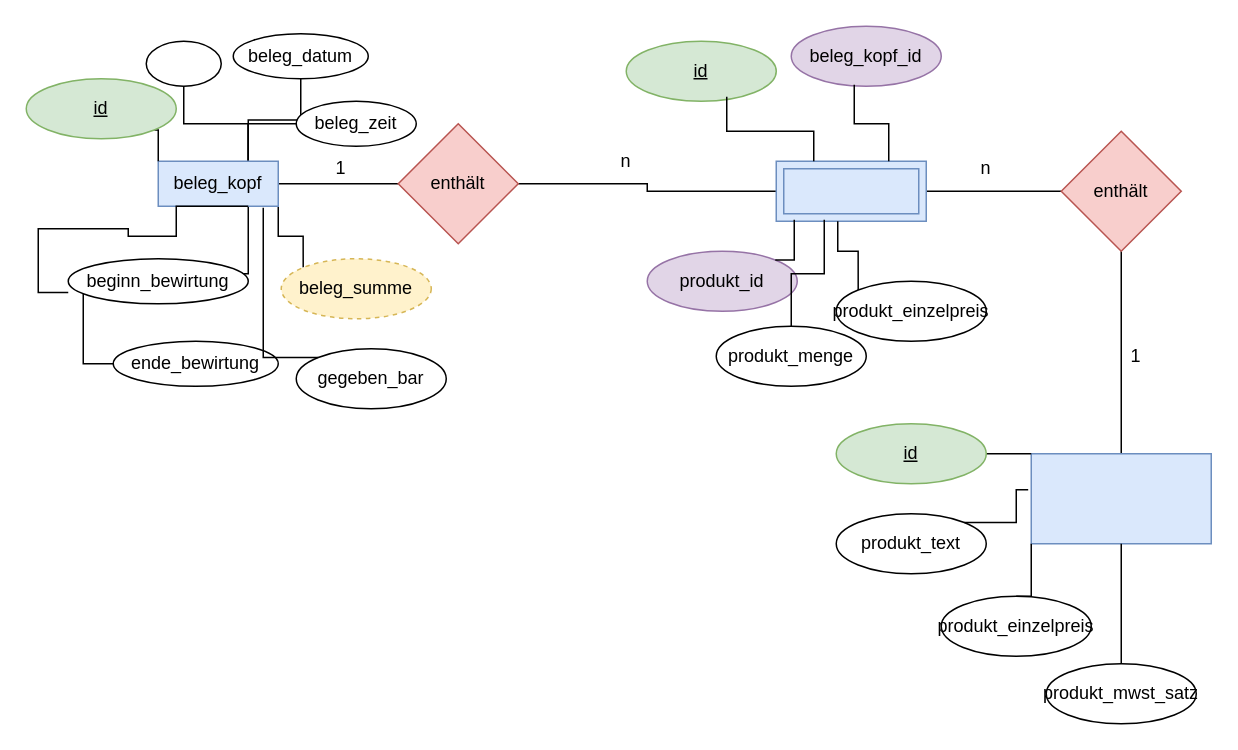
The diagram is 1238 pixels wide and 750 high, and some of its shapes have lost their labels. The shapes that lost their labels are listed below. From the top down, each one's centre as x and y in pixels, then its label:
At (183,63): "lfd_nr".
At (850,190): "beleg_positionen".
At (1120,498): "produkte".
